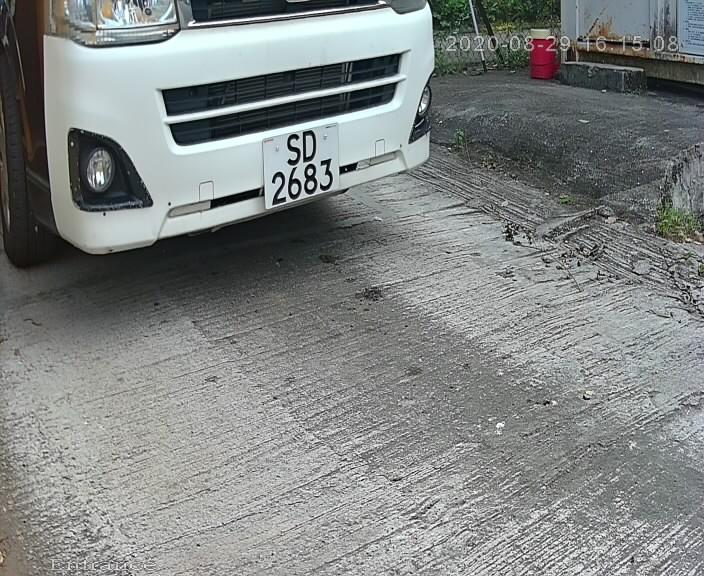Car: (23, 6, 485, 304)
License Plate: (252, 111, 353, 211)
